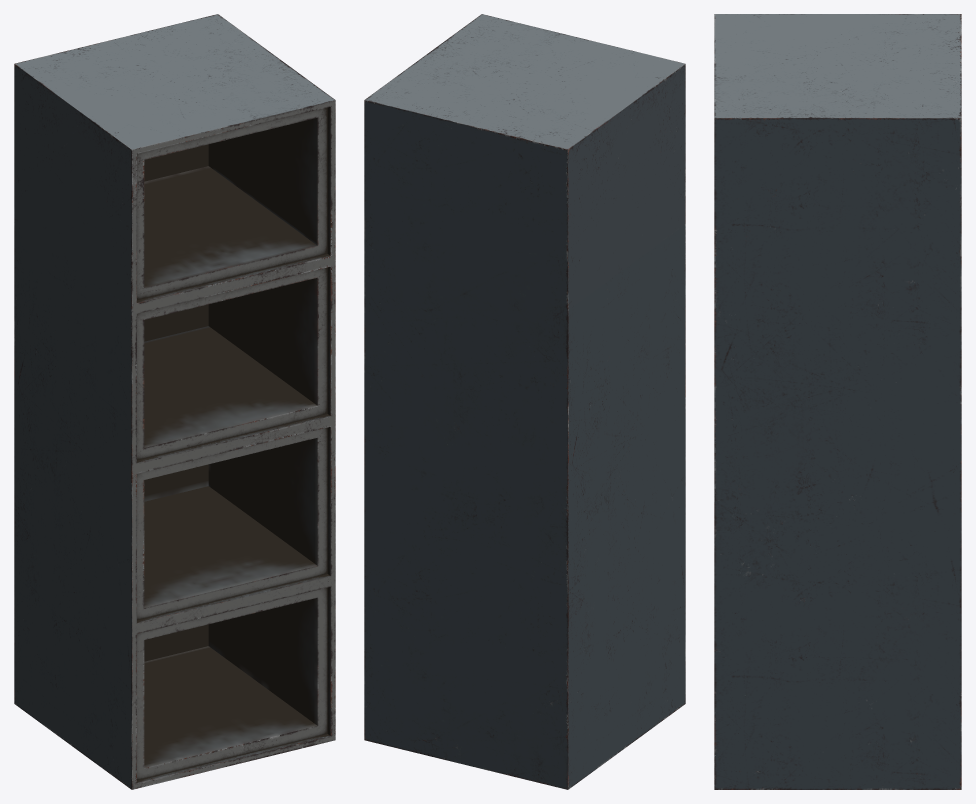
File: cabinet_frame.glb
The picture shows the model from 3 angles, left to right: view 1: azimuth 30°, elevation 25°; view 2: azimuth 150°, elevation 25°; view 3: azimuth 270°, elevation 25°; orthographic projection. The views are drawn at different scales.
Visible parts, largest first — view 1: box__0; view 2: box__0; view 3: box__0.
Part boxes in pixels (x1,y1,x2,y2): box__0: (14,14,335,789); box__0: (364,14,685,789); box__0: (714,14,961,789).
Size of the model in its own units: 0.4 by 1.2 by 0.4.
1 material, 1 textured.
